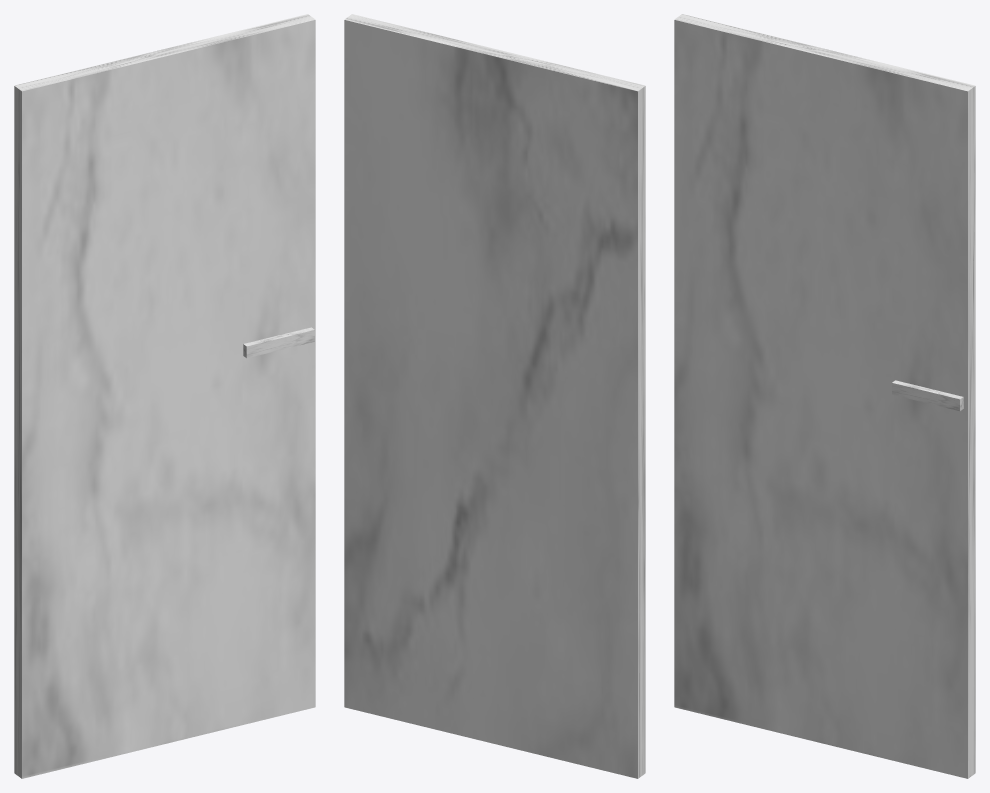
Rendered from puertav2.obj.
3 renders of one model, left to right at view 1: azimuth 30°, elevation 25°; view 2: azimuth 150°, elevation 25°; view 3: azimuth 330°, elevation 25°, orthographic.
Parts seen in each view (by area): view 1: group pasted__pCube2, pasted__pCube1 group; view 2: group pasted__pCube2; view 3: group pasted__pCube2, pasted__pCube1 group.
Boxes of the visible parts, bbox=[...] form: group pasted__pCube2: bbox=[14, 14, 315, 778]; pasted__pCube1 group: bbox=[243, 327, 314, 358]; group pasted__pCube2: bbox=[344, 14, 645, 778]; group pasted__pCube2: bbox=[674, 14, 975, 778]; pasted__pCube1 group: bbox=[892, 380, 963, 411].
Bounding box in the file's own units: 1.29 × 2.89 × 0.0863.
Materials: 1 (1 with a texture image).
